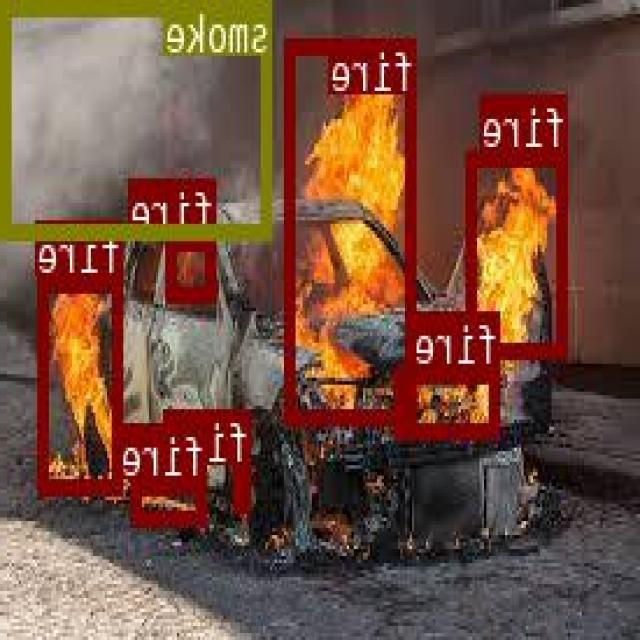fire: (288, 38, 417, 420), (468, 148, 570, 354), (40, 276, 125, 490), (396, 364, 502, 435), (170, 232, 218, 300), (134, 478, 208, 522), (237, 462, 252, 508)
smoke: (5, 0, 273, 234)
